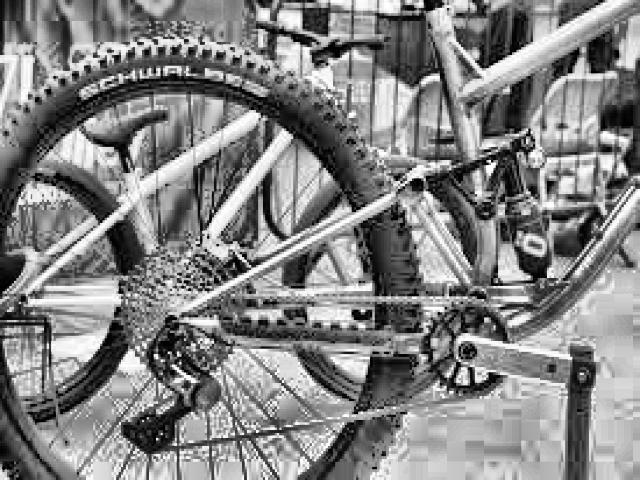cassette: (118, 246, 244, 376)
cranks_set: (420, 299, 584, 399)
rear_derailleur: (121, 328, 223, 457)
wheel: (0, 49, 419, 480)
